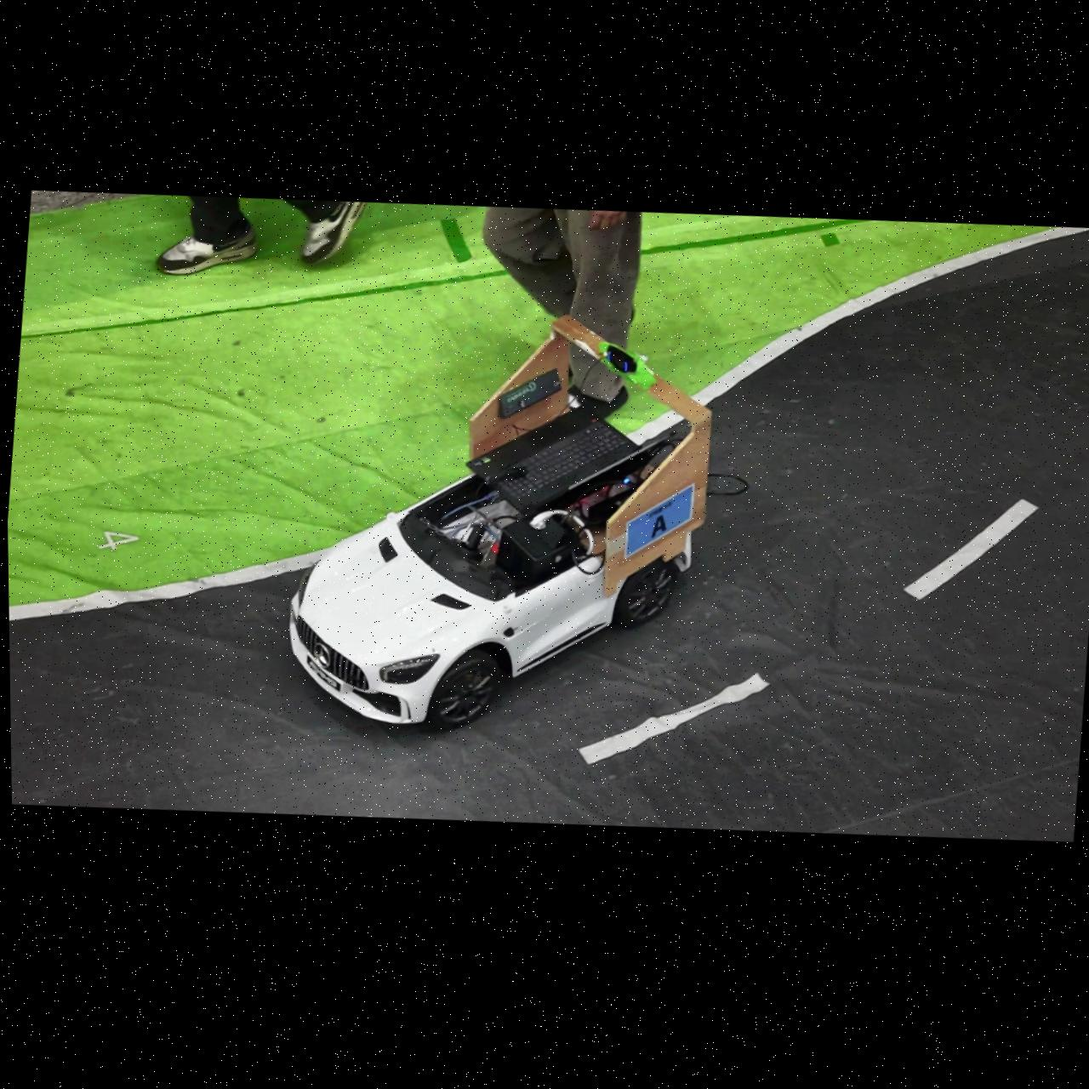broken_line: (579, 674, 768, 766), (905, 499, 1037, 600)
